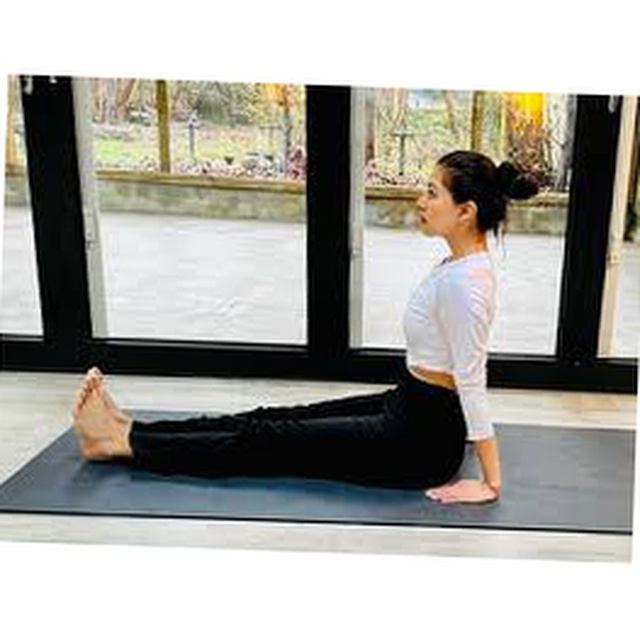Staff_Pose: (71, 150, 540, 507)
